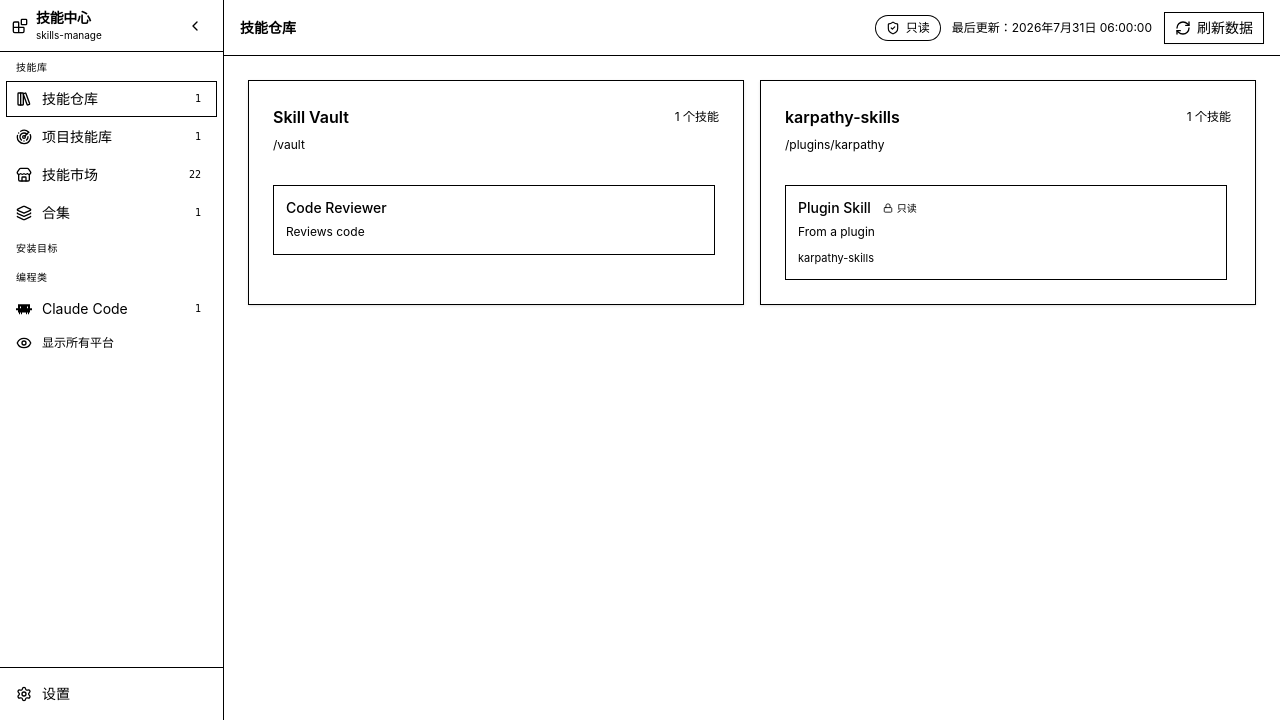
Test: WebDashboardApp › 전체 플랫폼을 펼친 뒤 다시 빈 플랫폼을 접을 수 있다
This screenshot has width=1280, height=720.
Expected: the link "Empty Agent" is not shown
Click the button "显示所有平台" at (112, 343), box [6,329,217,357]
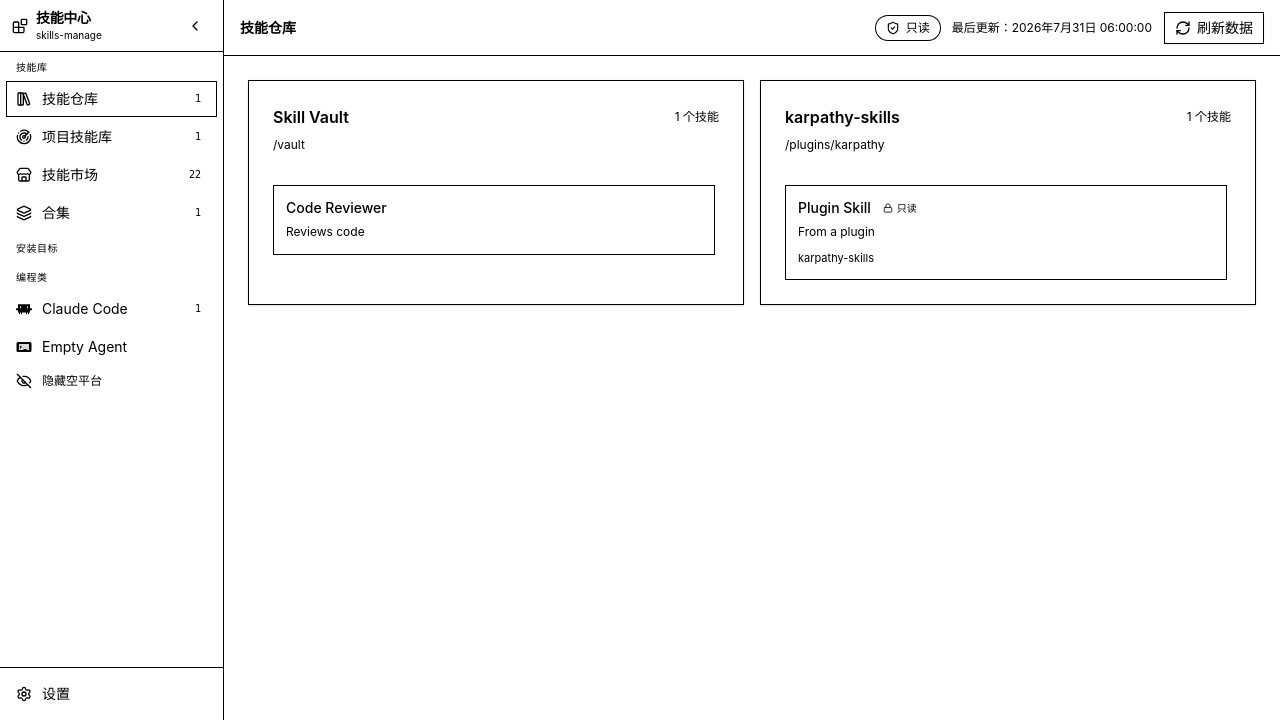
Expected: the link "Empty Agent" is shown, [16,338,127,355]
Click the button "隐藏空平台" at (112, 381), box [6,367,217,395]
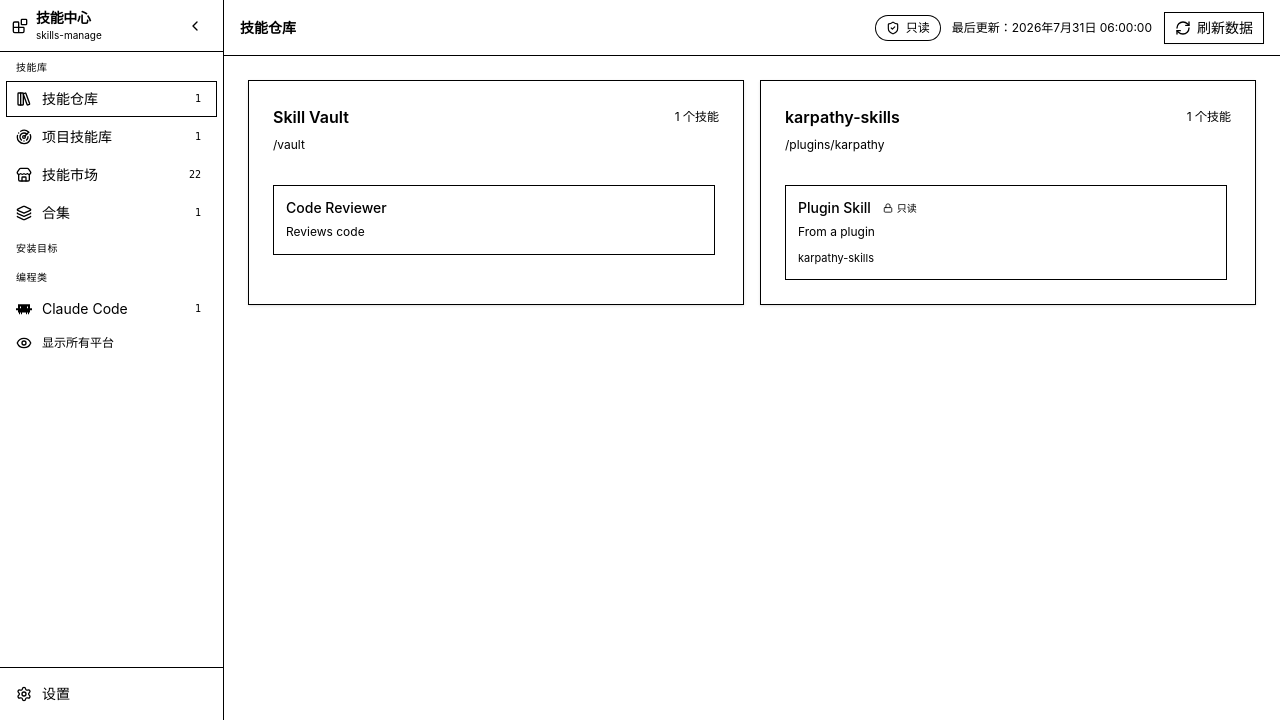
Expected: the link "Empty Agent" is gone
Expected: the button "显示所有平台" is shown, [6,329,217,357]
